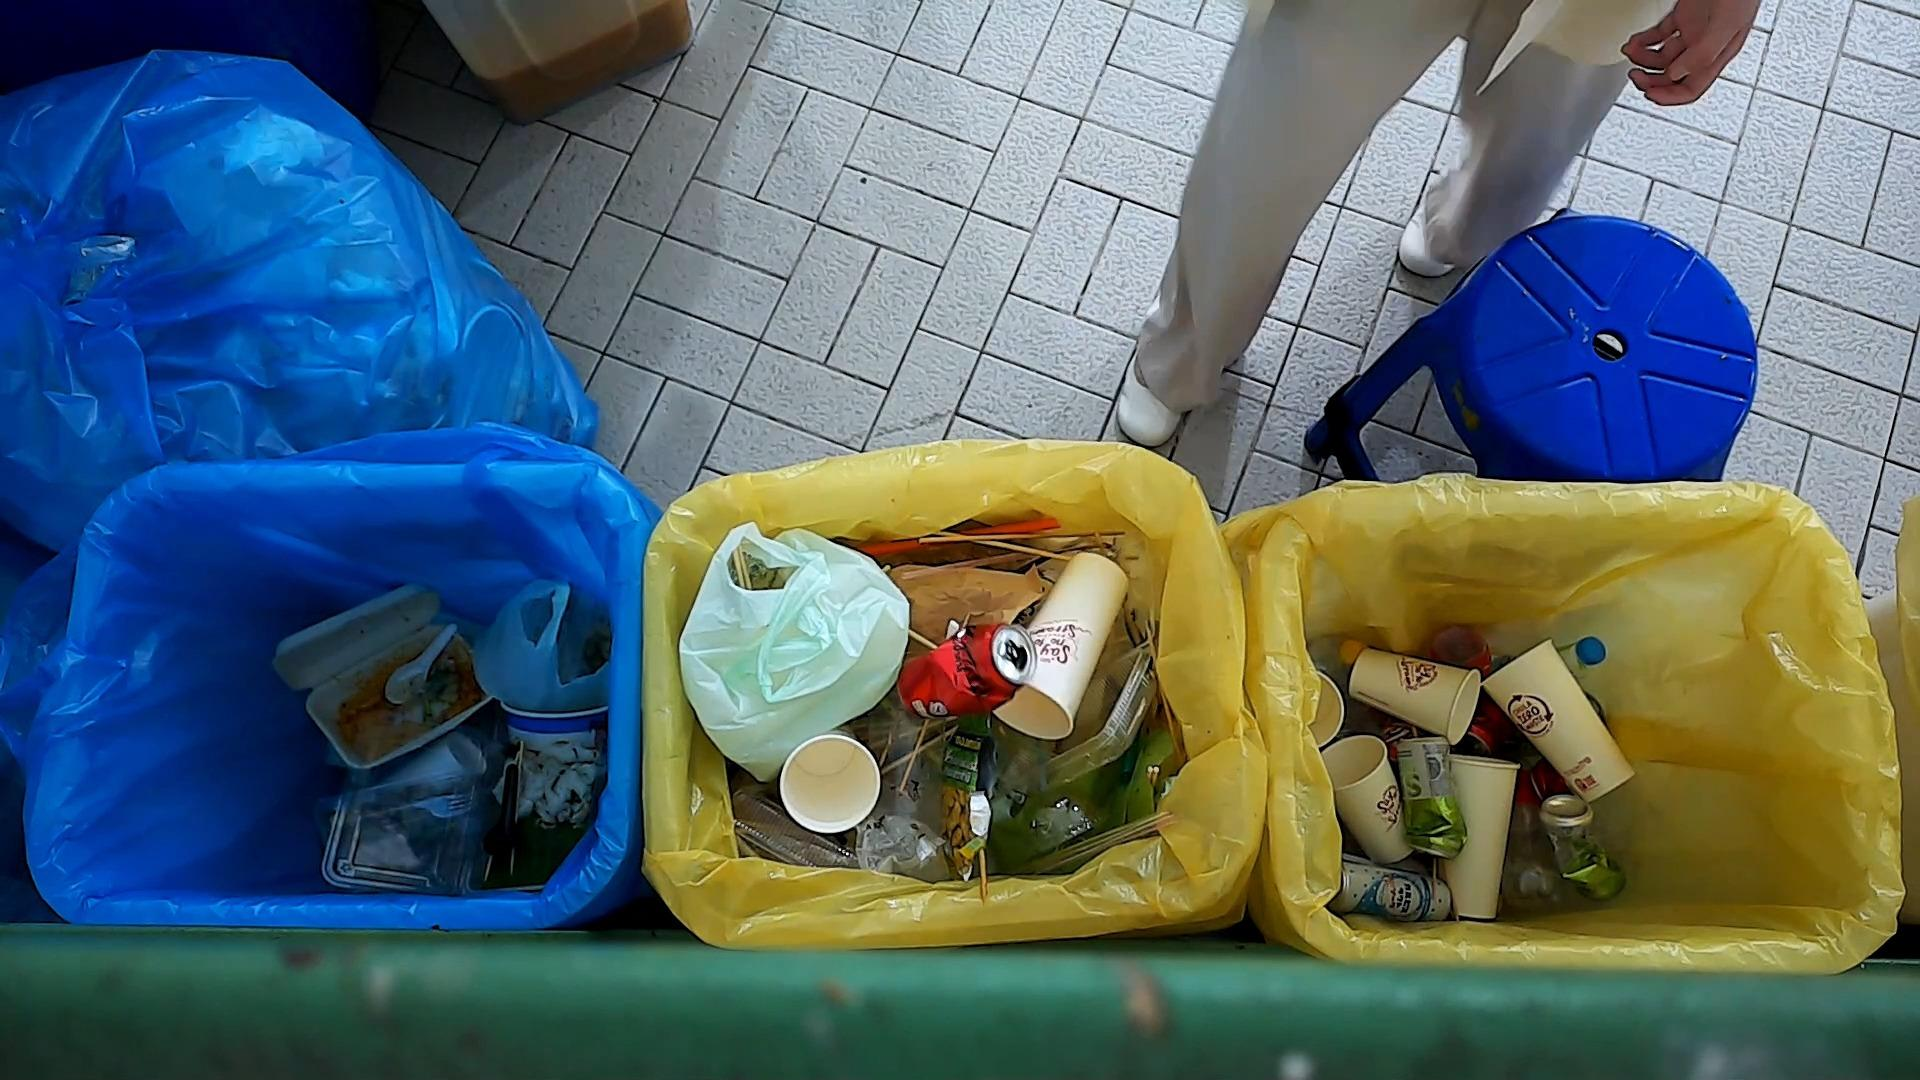can: (893, 615, 1042, 727), (1532, 791, 1630, 909), (1391, 733, 1470, 864), (1328, 858, 1455, 926)
dirty food container: (319, 711, 604, 895), (268, 572, 492, 777), (310, 770, 484, 903)
filled plastic bag: (676, 513, 914, 783), (467, 570, 616, 713)
food container: (993, 638, 1164, 806), (497, 698, 611, 758)
paper bag: (885, 560, 1048, 659)
plastic bag: (844, 803, 960, 878)
plastic cutlery: (381, 621, 463, 709), (480, 758, 526, 861)
snack packaging: (934, 709, 1000, 882)
sticks: (915, 525, 1131, 547), (932, 529, 1065, 564), (509, 738, 526, 880)
straw: (898, 551, 1039, 587)
zero waste cup: (1477, 634, 1639, 810), (990, 547, 1133, 746), (1431, 749, 1520, 922), (1345, 642, 1484, 748), (1321, 731, 1416, 866), (777, 721, 885, 836)
